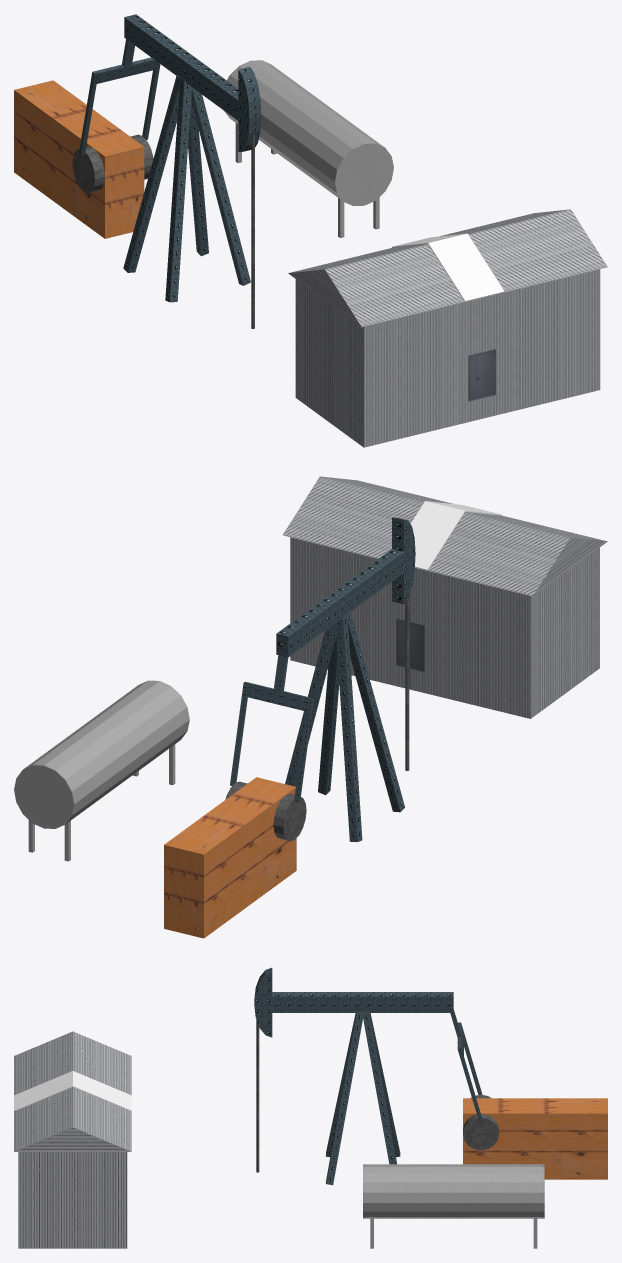
The model's file is ResourceExtractor.glb.
3 renders of one model, top to bottom at view 1: azimuth 30°, elevation 25°; view 2: azimuth 150°, elevation 25°; view 3: azimuth 270°, elevation 25°, orthographic. The views are drawn at different scales.
Parts seen in each view (by area): view 1: resource_extractor; view 2: resource_extractor; view 3: resource_extractor.
Part boxes in pixels (<box>): resource_extractor: <box>14,14,607,447</box>; resource_extractor: <box>14,476,607,938</box>; resource_extractor: <box>14,967,607,1248</box>.
Bounding box in the file's own units: 12.75 × 12.3 × 32.75.
1 material, 1 textured.
